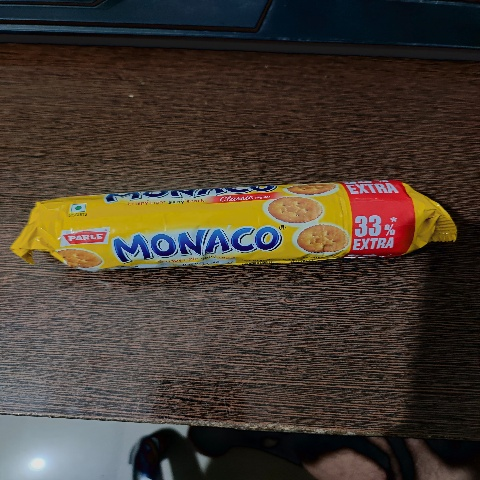monaco: (8, 174, 454, 282)
